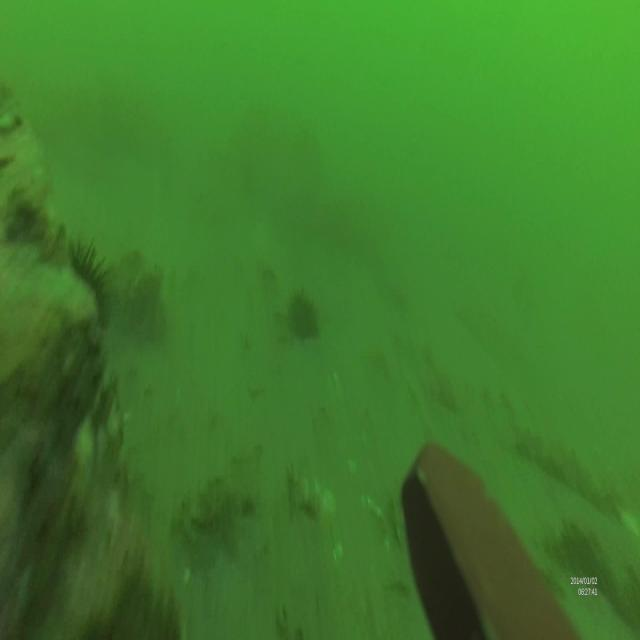echinus: (57, 236, 111, 343), (286, 292, 320, 350)
